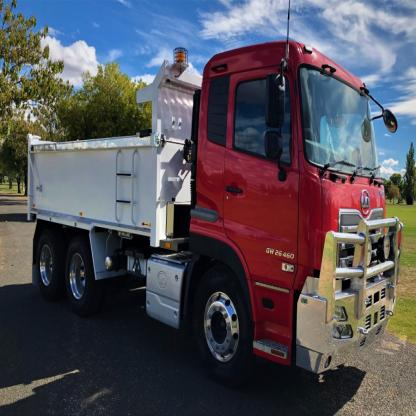dump_truck: (25, 34, 403, 400)
